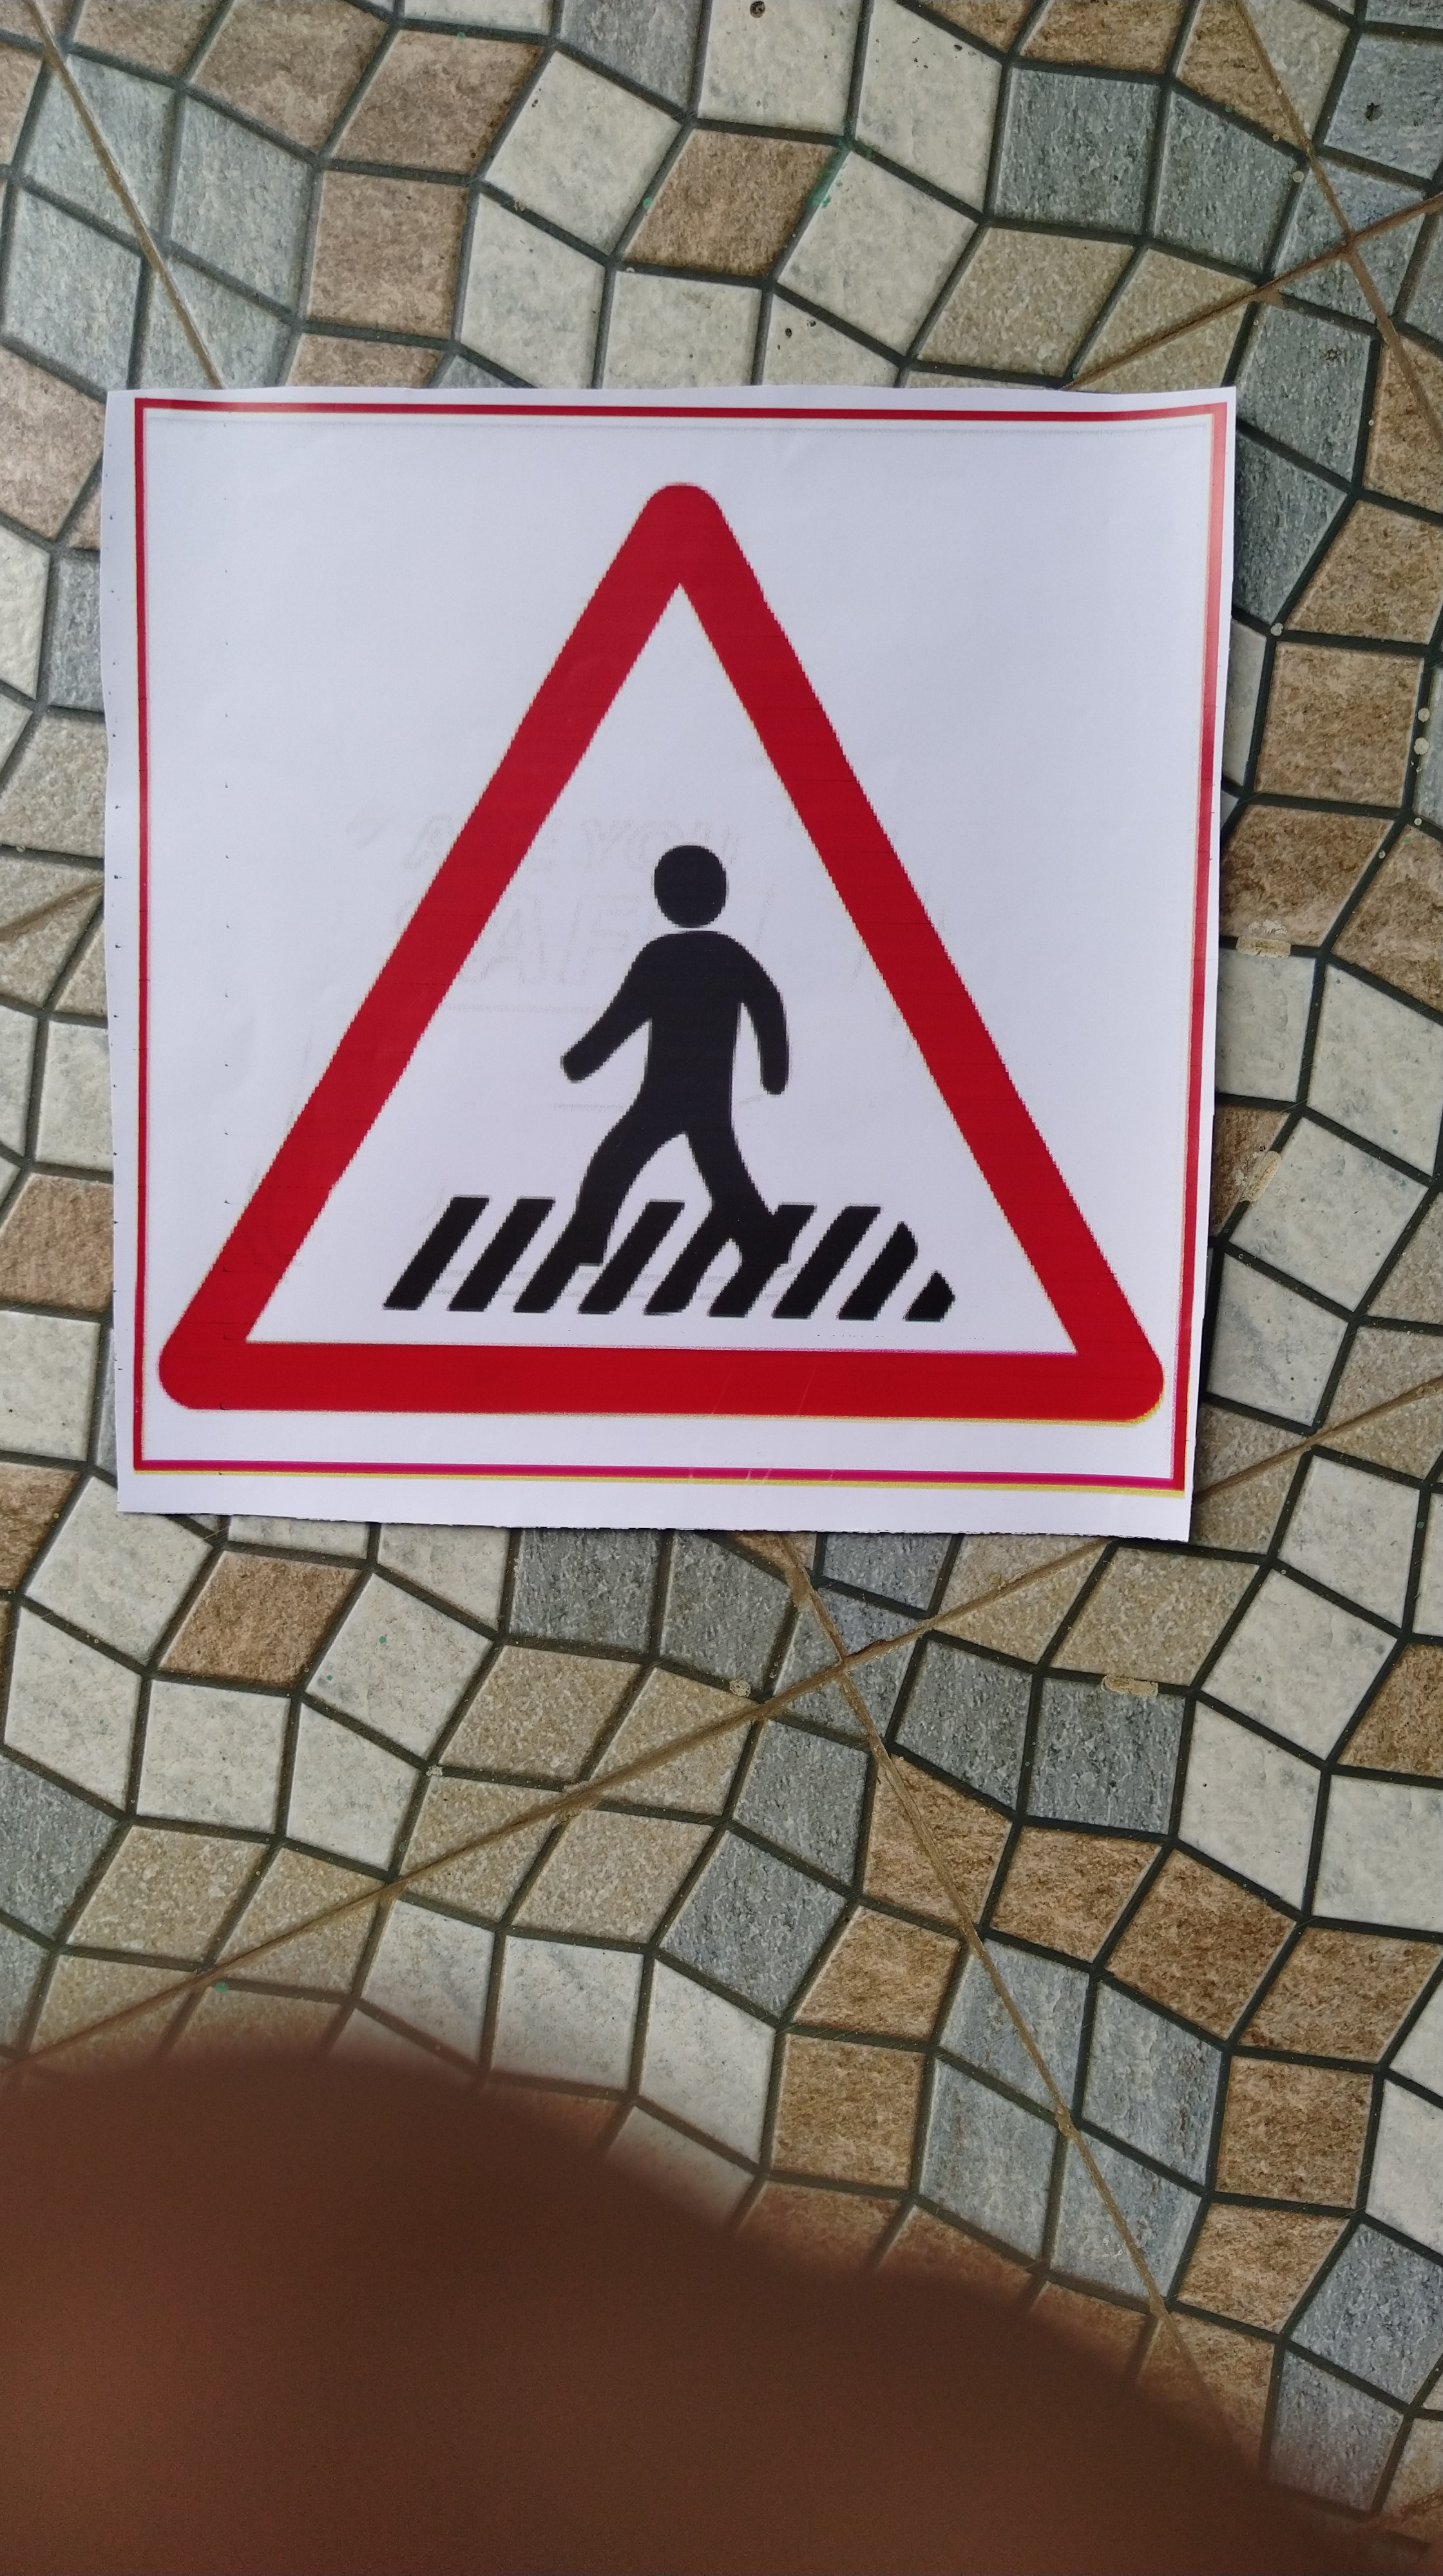pedestrain crossing: (170, 423, 1176, 1509)
